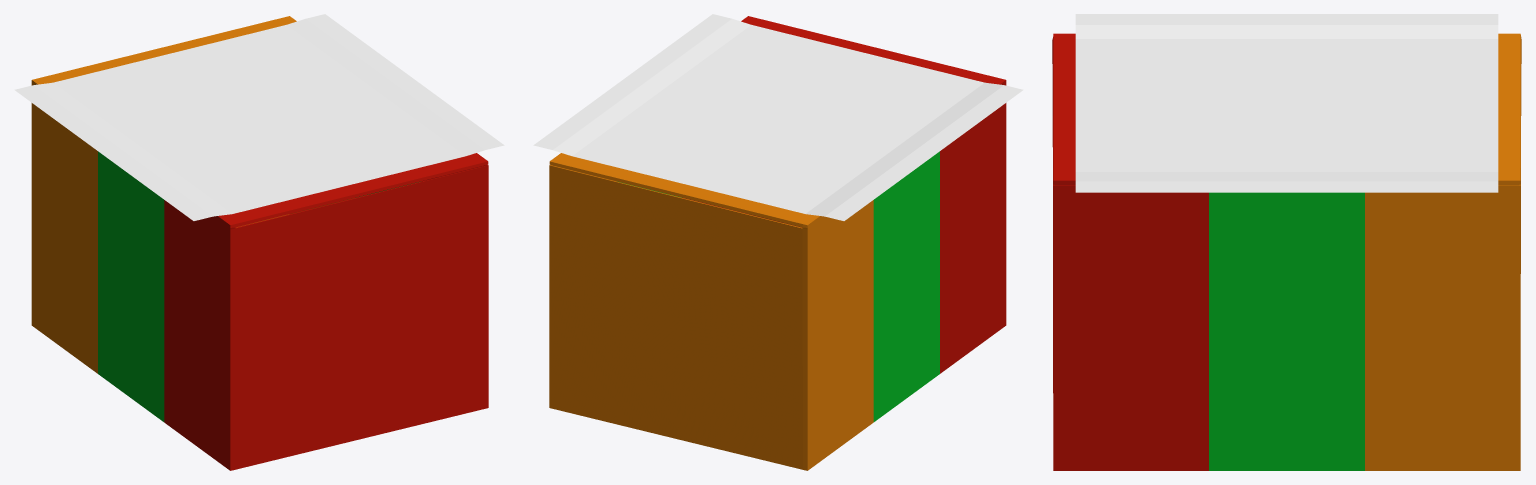
Rendered from Caja de latas o snacks 4.fbx.
3 views of the same model, side by side, from view 1: azimuth 30°, elevation 25°; view 2: azimuth 150°, elevation 25°; view 3: azimuth 270°, elevation 25° (orthographic). The views are drawn at different scales.
Parts seen in each view (by area): view 1: Cube, Marcas Piratas-13; view 2: Cube, Marcas Piratas-13; view 3: Cube, Marcas Piratas-13.
Part boxes in pixels (box(x1,y1,x2,y2)): Cube: box(31, 16, 488, 470); Marcas Piratas-13: box(14, 14, 504, 220); Cube: box(549, 16, 1006, 470); Marcas Piratas-13: box(533, 14, 1023, 220); Cube: box(1052, 33, 1521, 470); Marcas Piratas-13: box(1075, 14, 1498, 192).
Bounding box in the file's own units: 727 × 557 × 807.
